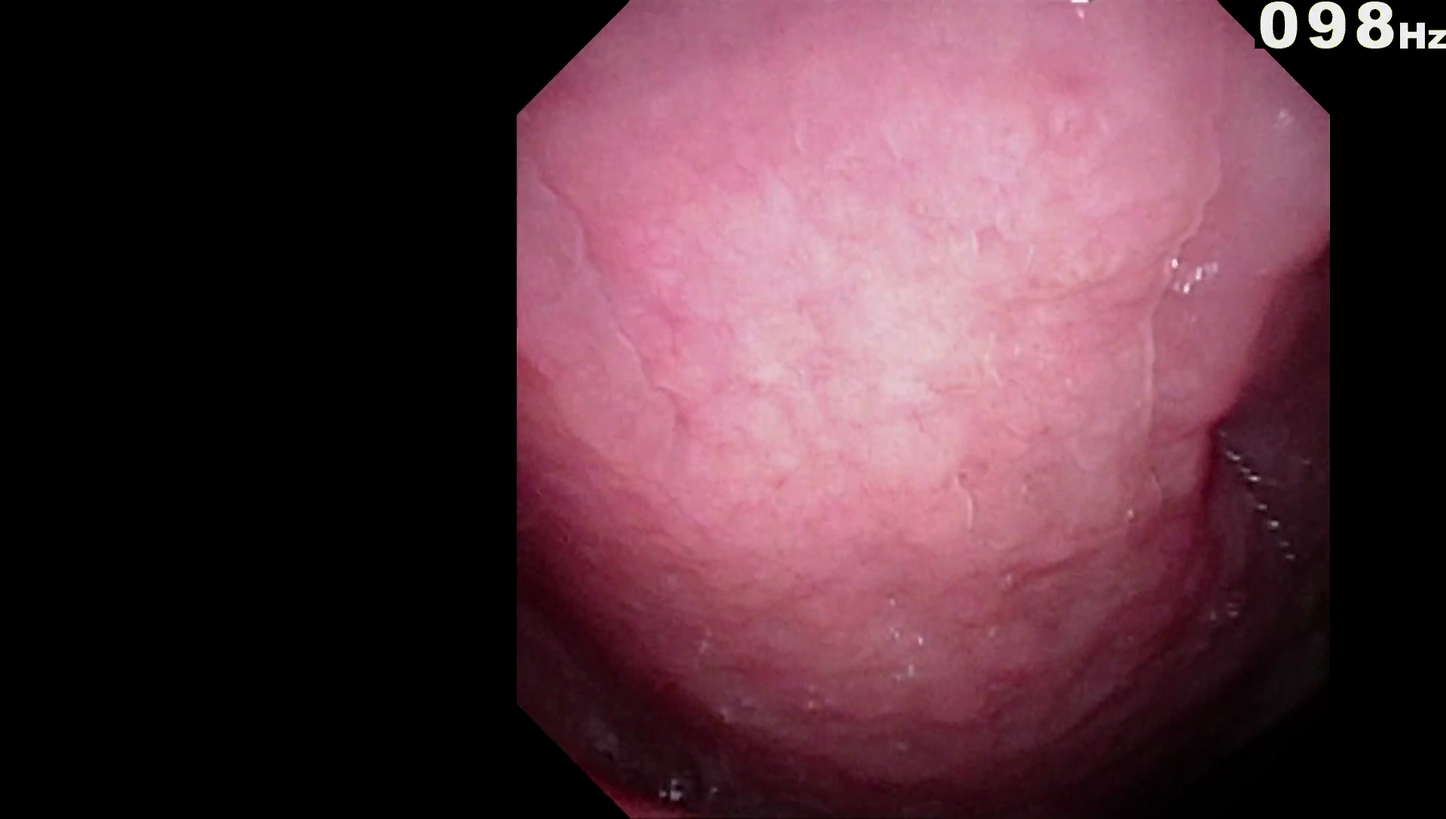close_wall: (545, 84, 1279, 602)
next: (1026, 626, 1305, 814)
